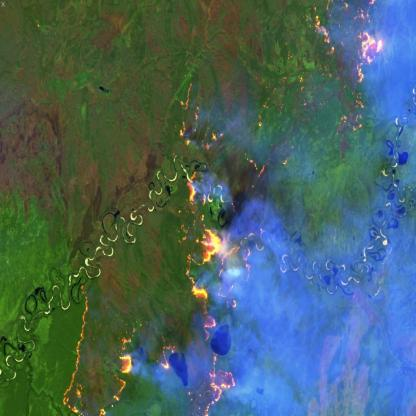fire: (57, 271, 147, 416), (164, 308, 243, 416), (180, 225, 258, 310), (316, 0, 386, 93), (176, 167, 203, 219)
